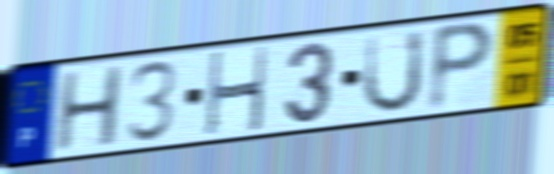3: (279, 40, 335, 126), (125, 58, 180, 145)
H: (51, 63, 125, 155), (204, 43, 271, 139)
P: (425, 19, 499, 115)
U: (359, 26, 427, 117)
